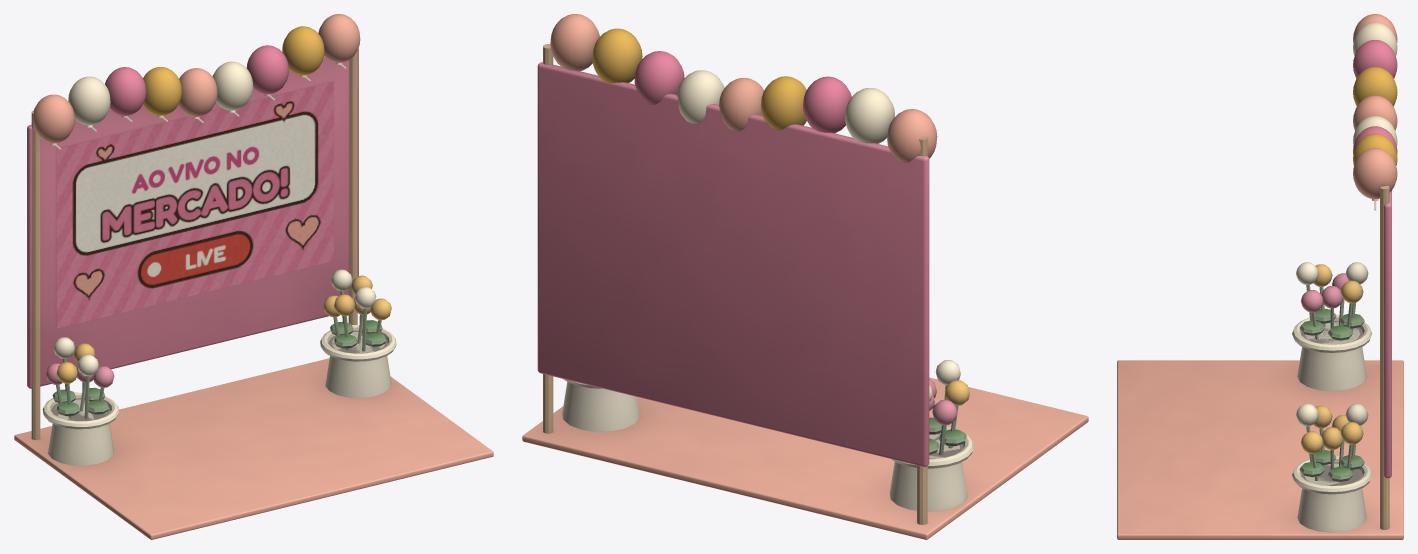
Rendered from CreatorBackdrop.fbx.
3 renders of one model, left to right at view 1: azimuth 30°, elevation 25°; view 2: azimuth 150°, elevation 25°; view 3: azimuth 270°, elevation 25°, orthographic. The views are drawn at different scales.
Visible parts, largest first — view 1: CreatorBackdrop; view 2: CreatorBackdrop; view 3: CreatorBackdrop.
Part boxes in pixels (left/top/right/bottom): CreatorBackdrop: left=14, top=14, right=493, bottom=539; CreatorBackdrop: left=522, top=14, right=1088, bottom=539; CreatorBackdrop: left=1117, top=14, right=1403, bottom=539.
Bounding box in the file's own units: 260 × 259 × 180.
